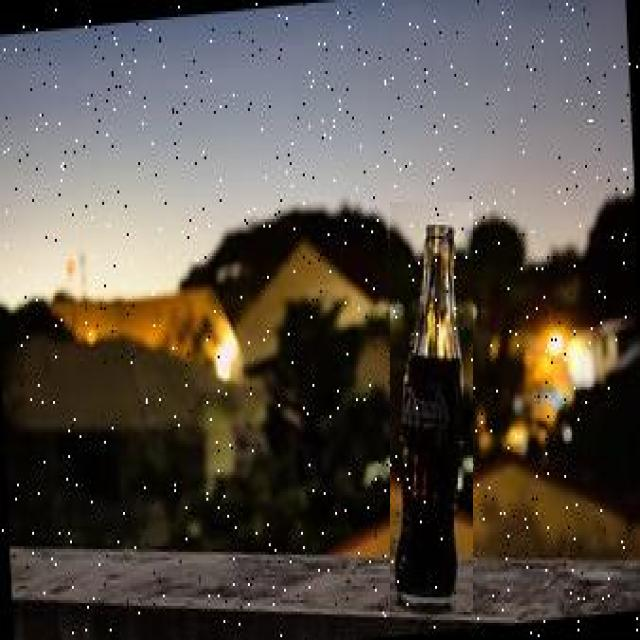coca-cola: (390, 202, 473, 612)
